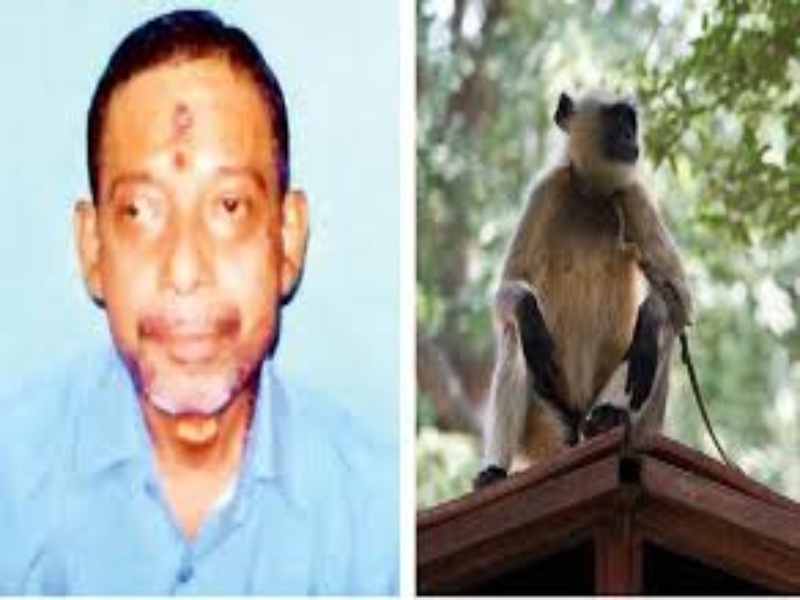monkey: (473, 70, 712, 480)
